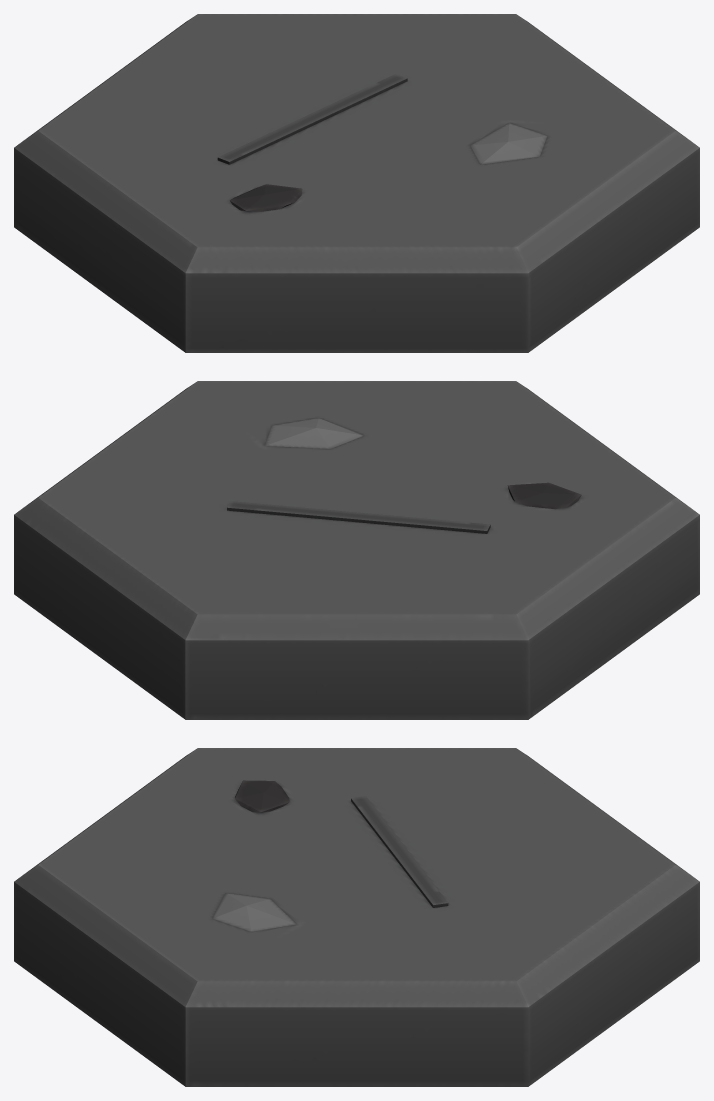
The model's file is tile_hex_ash.glb.
3 renders of one model, top to bottom at view 1: azimuth 30°, elevation 25°; view 2: azimuth 150°, elevation 25°; view 3: azimuth 270°, elevation 25°, orthographic.
Visible parts, largest first — view 1: tile_hex_ash; view 2: tile_hex_ash; view 3: tile_hex_ash.
Part boxes in pixels (x1,y1,x2,y2): tile_hex_ash: (14, 14, 699, 352); tile_hex_ash: (14, 381, 699, 719); tile_hex_ash: (14, 748, 699, 1086).
Size of the model in its own units: 1.12 by 0.2124 by 1.29.
1 material, 1 textured.
